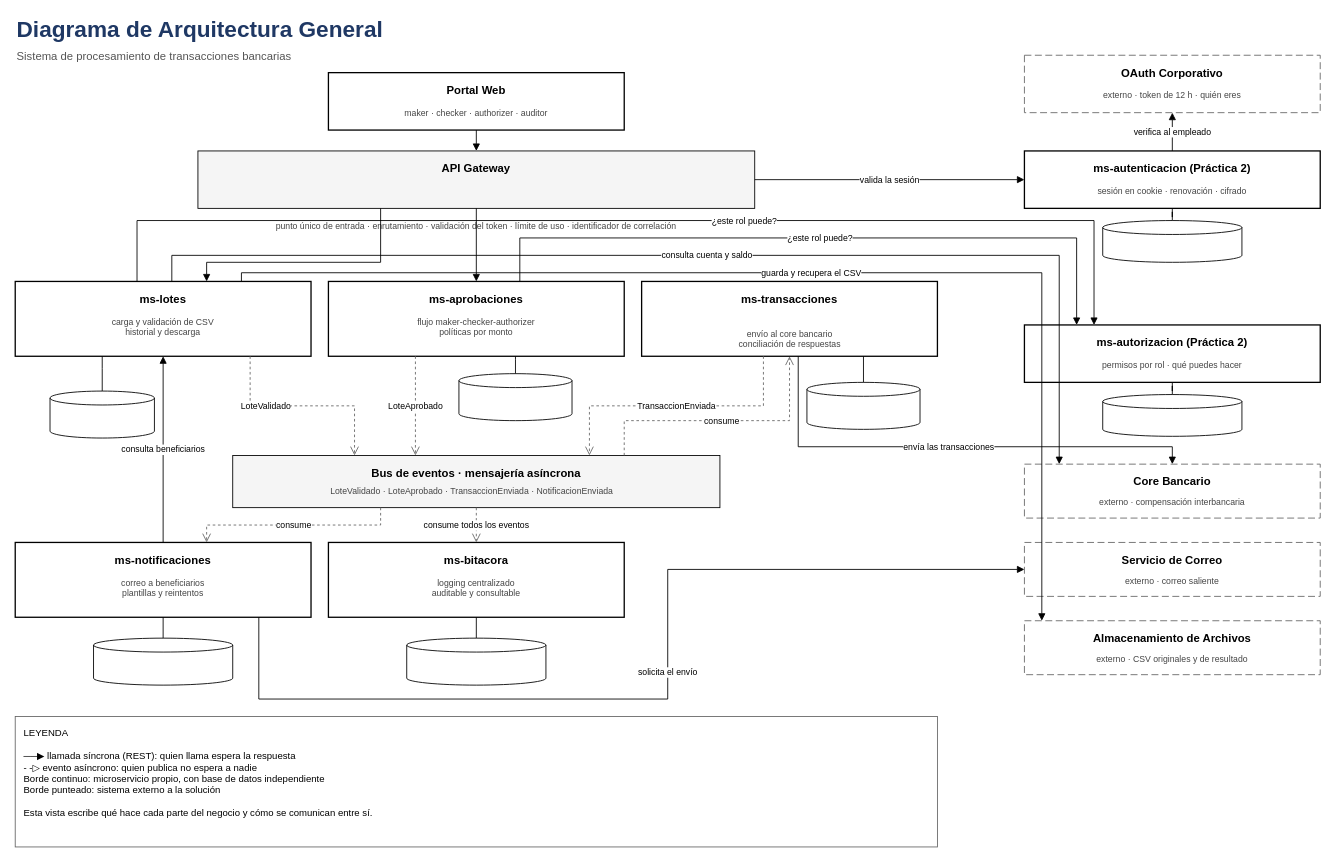
This 1336x862 diagram has some shape labels left out. The centre of each missing label's shape, as x and y in pixels:
"BD aprobaciones" goes at [515,397].
"BD autenticacion" goes at [1172,241].
"BD autorizacion" goes at [1172,415].
"BD bitacora" goes at [476,661].
"BD lotes" goes at [101,414].
"BD notificaciones" goes at [163,661].
"BD transacciones" goes at [863,405].
